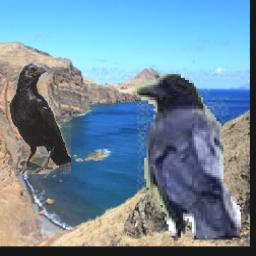Crow: (133, 71, 242, 241), (10, 64, 72, 175)
